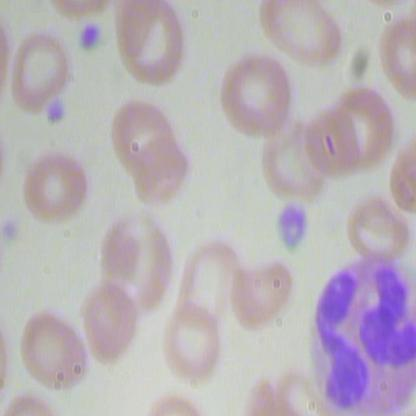Platelets: (268, 199, 313, 263), (73, 22, 107, 55), (44, 98, 73, 136)
RBC: (103, 208, 177, 313), (214, 50, 293, 146), (110, 1, 195, 88), (252, 1, 350, 66), (16, 305, 89, 392), (71, 276, 144, 362), (20, 146, 91, 229), (332, 81, 394, 174), (109, 95, 180, 176), (8, 30, 71, 115), (161, 300, 224, 382), (228, 253, 294, 331), (341, 192, 414, 261), (132, 132, 190, 199), (306, 106, 359, 178)
WBC: (307, 251, 415, 411)
